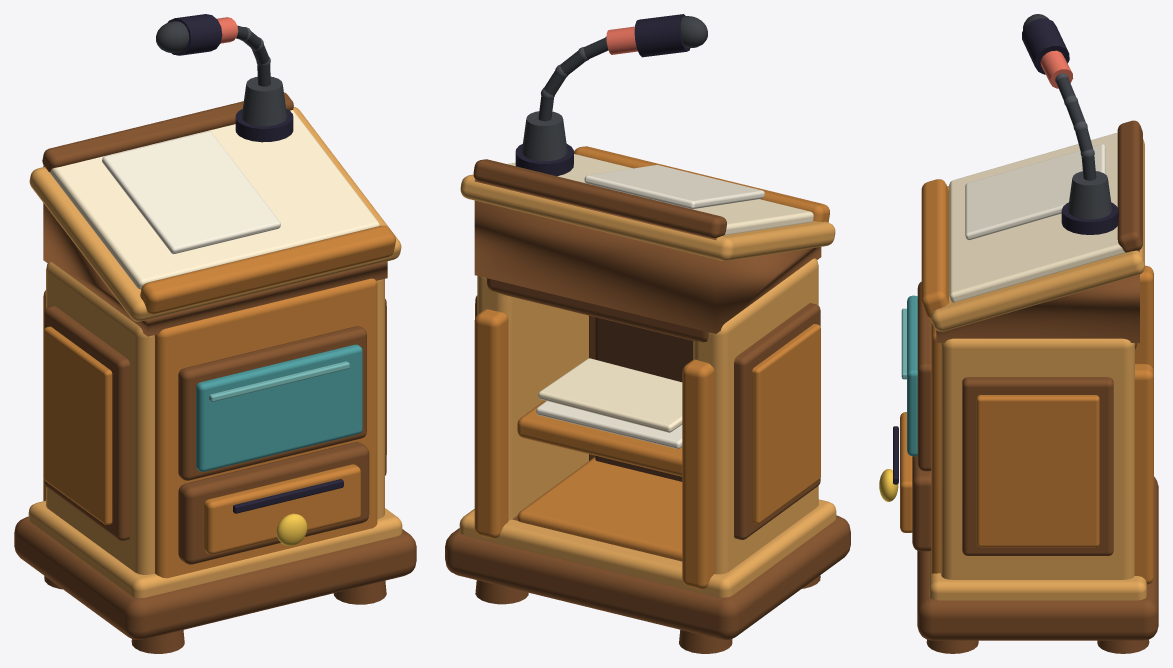
The model's file is proposal-podium.glb.
The picture shows the model from 3 angles, left to right: view 1: azimuth 30°, elevation 25°; view 2: azimuth 150°, elevation 25°; view 3: azimuth 270°, elevation 25°; orthographic projection. The views are drawn at different scales.
Visible parts, largest first — view 1: document-ledge-surface-4, podium-body-and-finished-sides-surface-0, wide-base-and-four-feet-surface-0, front-accent-panel-surface-2, one-blank-proposal-sheet-surface-0, podium-body-and-finished-sides-surface-2, podium-body-and-finished-sides-surface-8, document-ledge-surface-6, suggestion-drawer-surface-2, wide-base-and-four-feet-surface-2, suggestion-drawer-surface-0, front-accent-panel-surface-0 (+14 smaller); view 2: document-ledge-surface-0, wide-base-and-four-feet-surface-0, podium-body-and-finished-sides-surface-4, podium-body-and-finished-sides-surface-8, podium-body-and-finished-sides-surface-2, finished-backside-with-two-cubbies-surface-6, wide-base-and-four-feet-surface-2, document-ledge-surface-2, finished-backside-with-two-cubbies-surface-14, finished-backside-with-two-cubbies-surface-12, finished-backside-with-two-cubbies-surface-10, document-ledge-surface-8 (+15 smaller); view 3: podium-body-and-finished-sides-surface-4, podium-body-and-finished-sides-surface-12, document-ledge-surface-4, wide-base-and-four-feet-surface-0, podium-body-and-finished-sides-surface-10, document-ledge-surface-0, one-blank-proposal-sheet-surface-0, document-ledge-surface-2, wide-base-and-four-feet-surface-2, finished-backside-with-two-cubbies-surface-14, document-ledge-surface-6, document-ledge-surface-8 (+14 smaller).
Part boxes in pixels (x1,y1,x2,y2): document-ledge-surface-4: (49,110,379,289); podium-body-and-finished-sides-surface-0: (154,278,377,578); wide-base-and-four-feet-surface-0: (14,516,416,639); front-accent-panel-surface-2: (196,344,362,471); one-blank-proposal-sheet-surface-0: (102,131,280,254); podium-body-and-finished-sides-surface-2: (46,261,154,574); podium-body-and-finished-sides-surface-8: (44,326,112,524); document-ledge-surface-6: (140,225,395,314); suggestion-drawer-surface-2: (203,464,360,554); wide-base-and-four-feet-surface-2: (28,500,402,598); suggestion-drawer-surface-0: (178,442,369,564); front-accent-panel-surface-0: (178,326,366,480); document-ledge-surface-0: (474,179,821,333); wide-base-and-four-feet-surface-0: (445,515,850,639); podium-body-and-finished-sides-surface-4: (477,276,588,520); podium-body-and-finished-sides-surface-8: (752,324,820,523); podium-body-and-finished-sides-surface-2: (693,258,818,574); finished-backside-with-two-cubbies-surface-6: (517,457,682,561); wide-base-and-four-feet-surface-2: (459,499,836,597); document-ledge-surface-2: (460,174,835,260); finished-backside-with-two-cubbies-surface-14: (474,309,508,538); finished-backside-with-two-cubbies-surface-12: (682,359,714,589); finished-backside-with-two-cubbies-surface-10: (538,358,682,432); document-ledge-surface-8: (473,159,726,238); podium-body-and-finished-sides-surface-4: (941,338,1134,579); podium-body-and-finished-sides-surface-12: (976,395,1099,547); document-ledge-surface-4: (949,132,1125,302); wide-base-and-four-feet-surface-0: (917,476,1158,640); podium-body-and-finished-sides-surface-10: (962,377,1113,555); document-ledge-surface-0: (936,250,1139,342); one-blank-proposal-sheet-surface-0: (965,144,1105,240); document-ledge-surface-2: (931,139,1144,331); wide-base-and-four-feet-surface-2: (929,551,1146,600); finished-backside-with-two-cubbies-surface-14: (1134,363,1153,584); document-ledge-surface-6: (921,179,948,318); document-ledge-surface-8: (1117,120,1142,252).
Size of the model in its own units: 0.9187 by 1.74 by 0.786.
